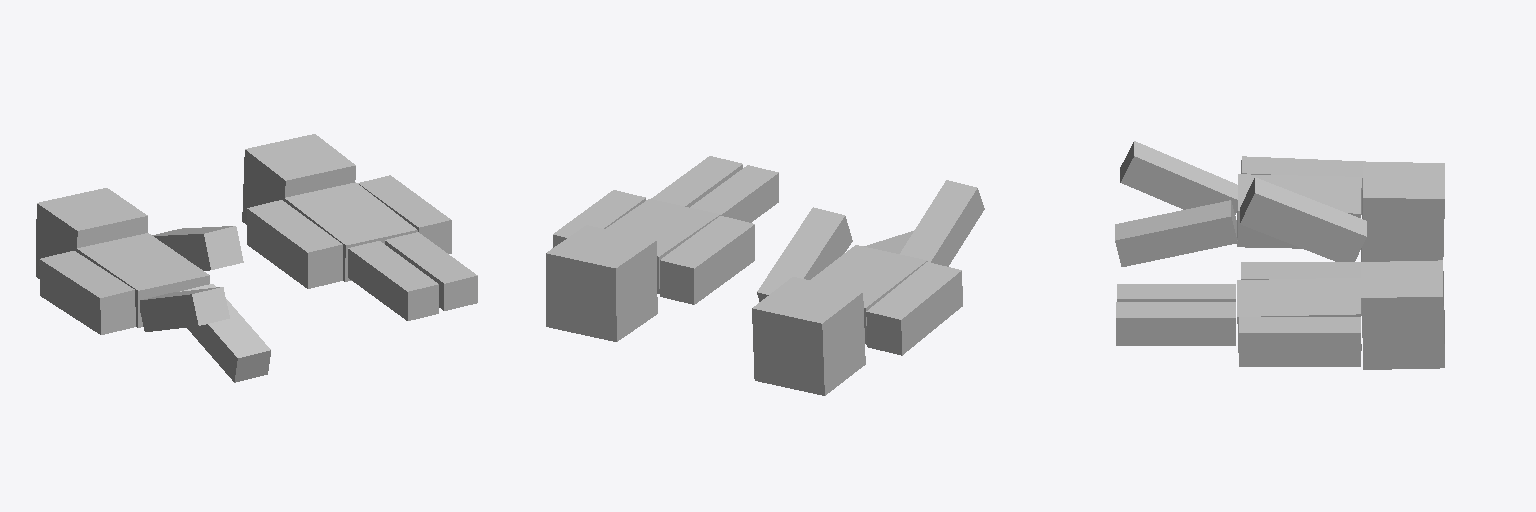
Rendered from steve_000009.obj.
3 views of the same model, side by side, from view 1: azimuth 30°, elevation 25°; view 2: azimuth 150°, elevation 25°; view 3: azimuth 270°, elevation 25° (orthographic).
Parts seen in each view (by area): view 1: Cube.001_Cube.002, Cube_Cube.001; view 2: Cube_Cube.001, Cube.001_Cube.002; view 3: Cube_Cube.001, Cube.001_Cube.002.
Boxes of the visible parts, <box> form: Cube.001_Cube.002: <box>242,134,477,320</box>; Cube_Cube.001: <box>36,188,270,382</box>; Cube_Cube.001: <box>752,180,984,395</box>; Cube.001_Cube.002: <box>546,156,778,341</box>; Cube_Cube.001: <box>1115,141,1444,266</box>; Cube.001_Cube.002: <box>1116,260,1444,369</box>.
Bounding box in the file's own units: 6.55 × 1.73 × 5.36.